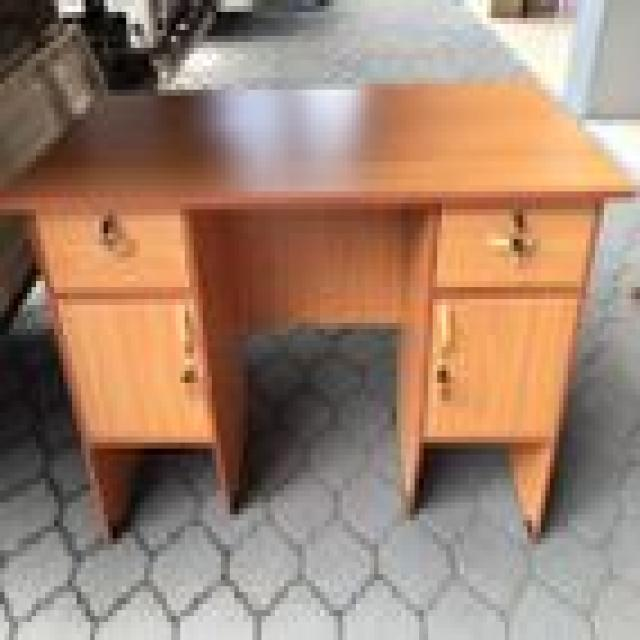others: (4, 47, 640, 550)
